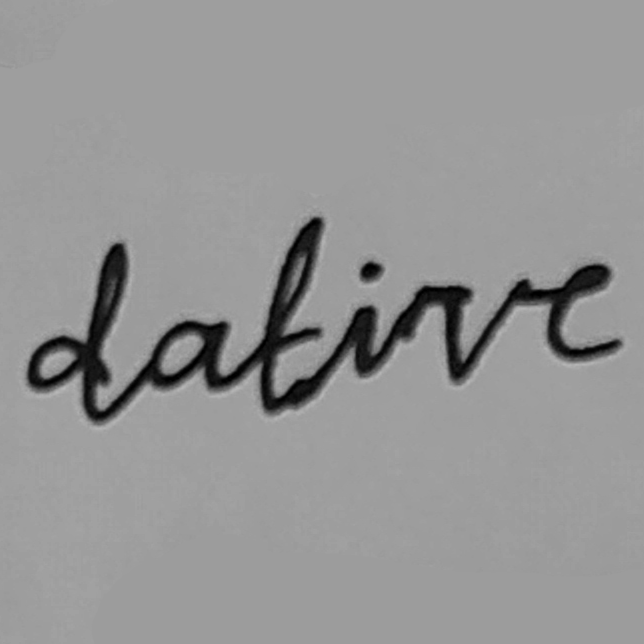a: (140, 312, 236, 394)
d: (22, 238, 133, 428)
e: (538, 258, 630, 367)
i: (335, 256, 396, 384)
t: (248, 211, 334, 422)
v: (425, 270, 533, 388)
